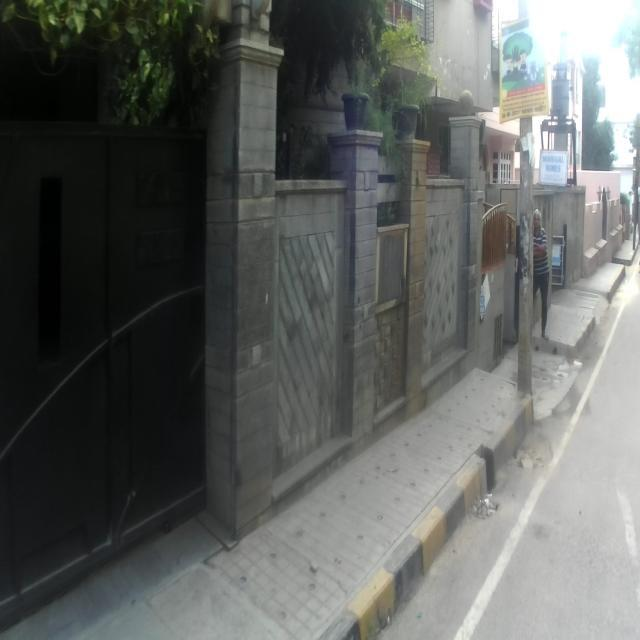Pothole: (516, 423, 564, 522)
